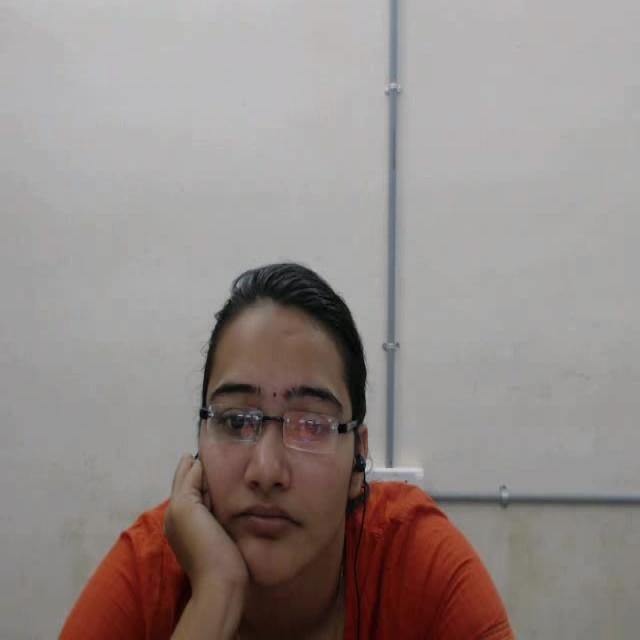Bored: (134, 230, 438, 640)
